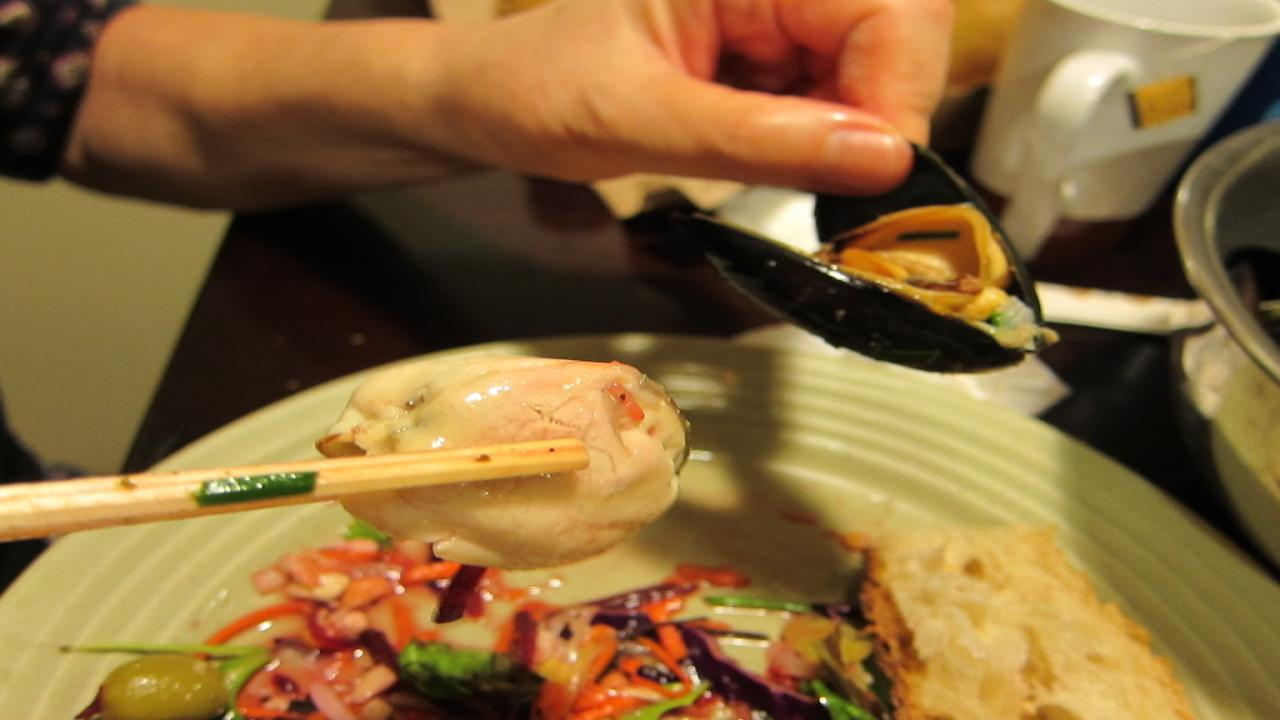chopstick: (0, 442, 585, 536)
